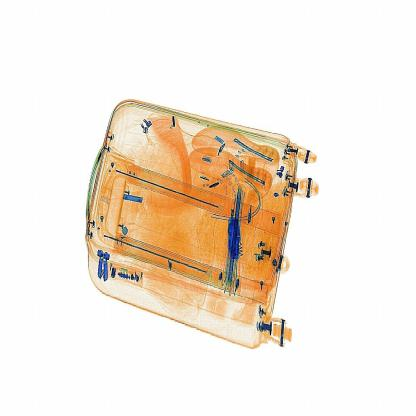scissors: (220, 212, 250, 265)
